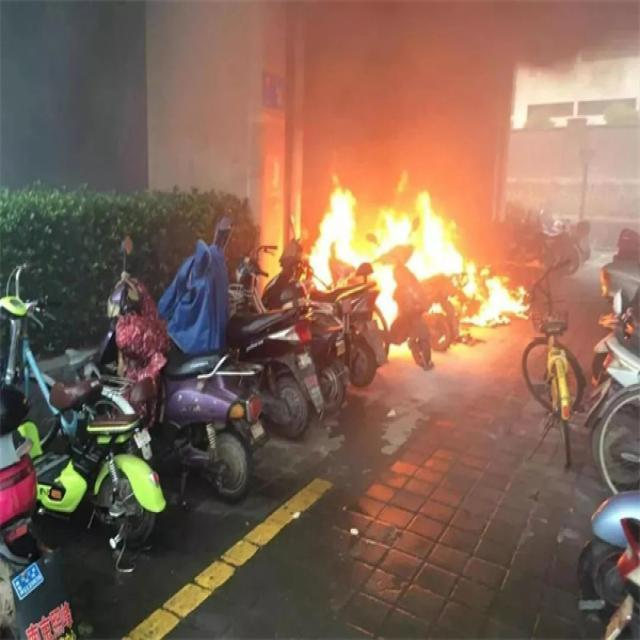fire: (374, 207, 464, 273), (307, 177, 360, 288), (470, 262, 530, 321)
